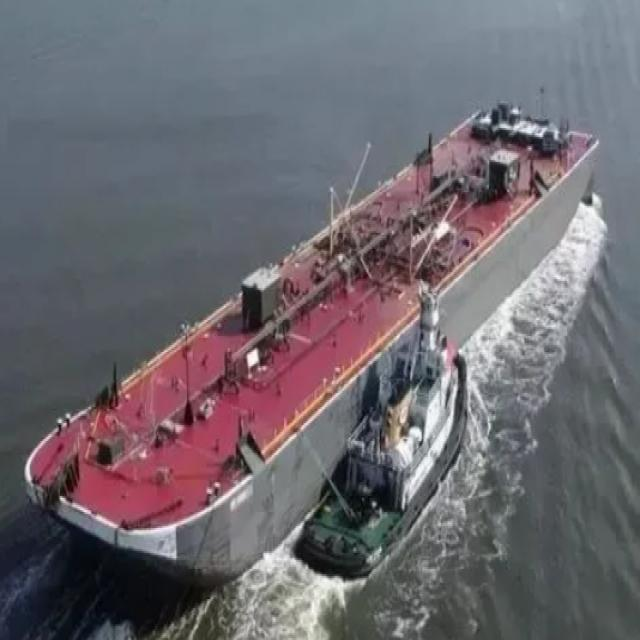navalvessels: (20, 45, 596, 596), (296, 283, 487, 591)
